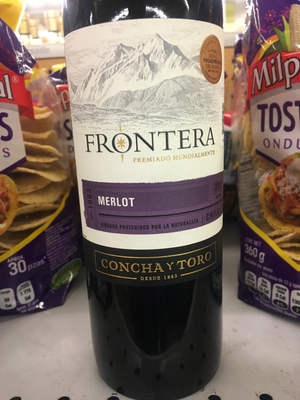frontera merlot: (45, 1, 239, 364)
